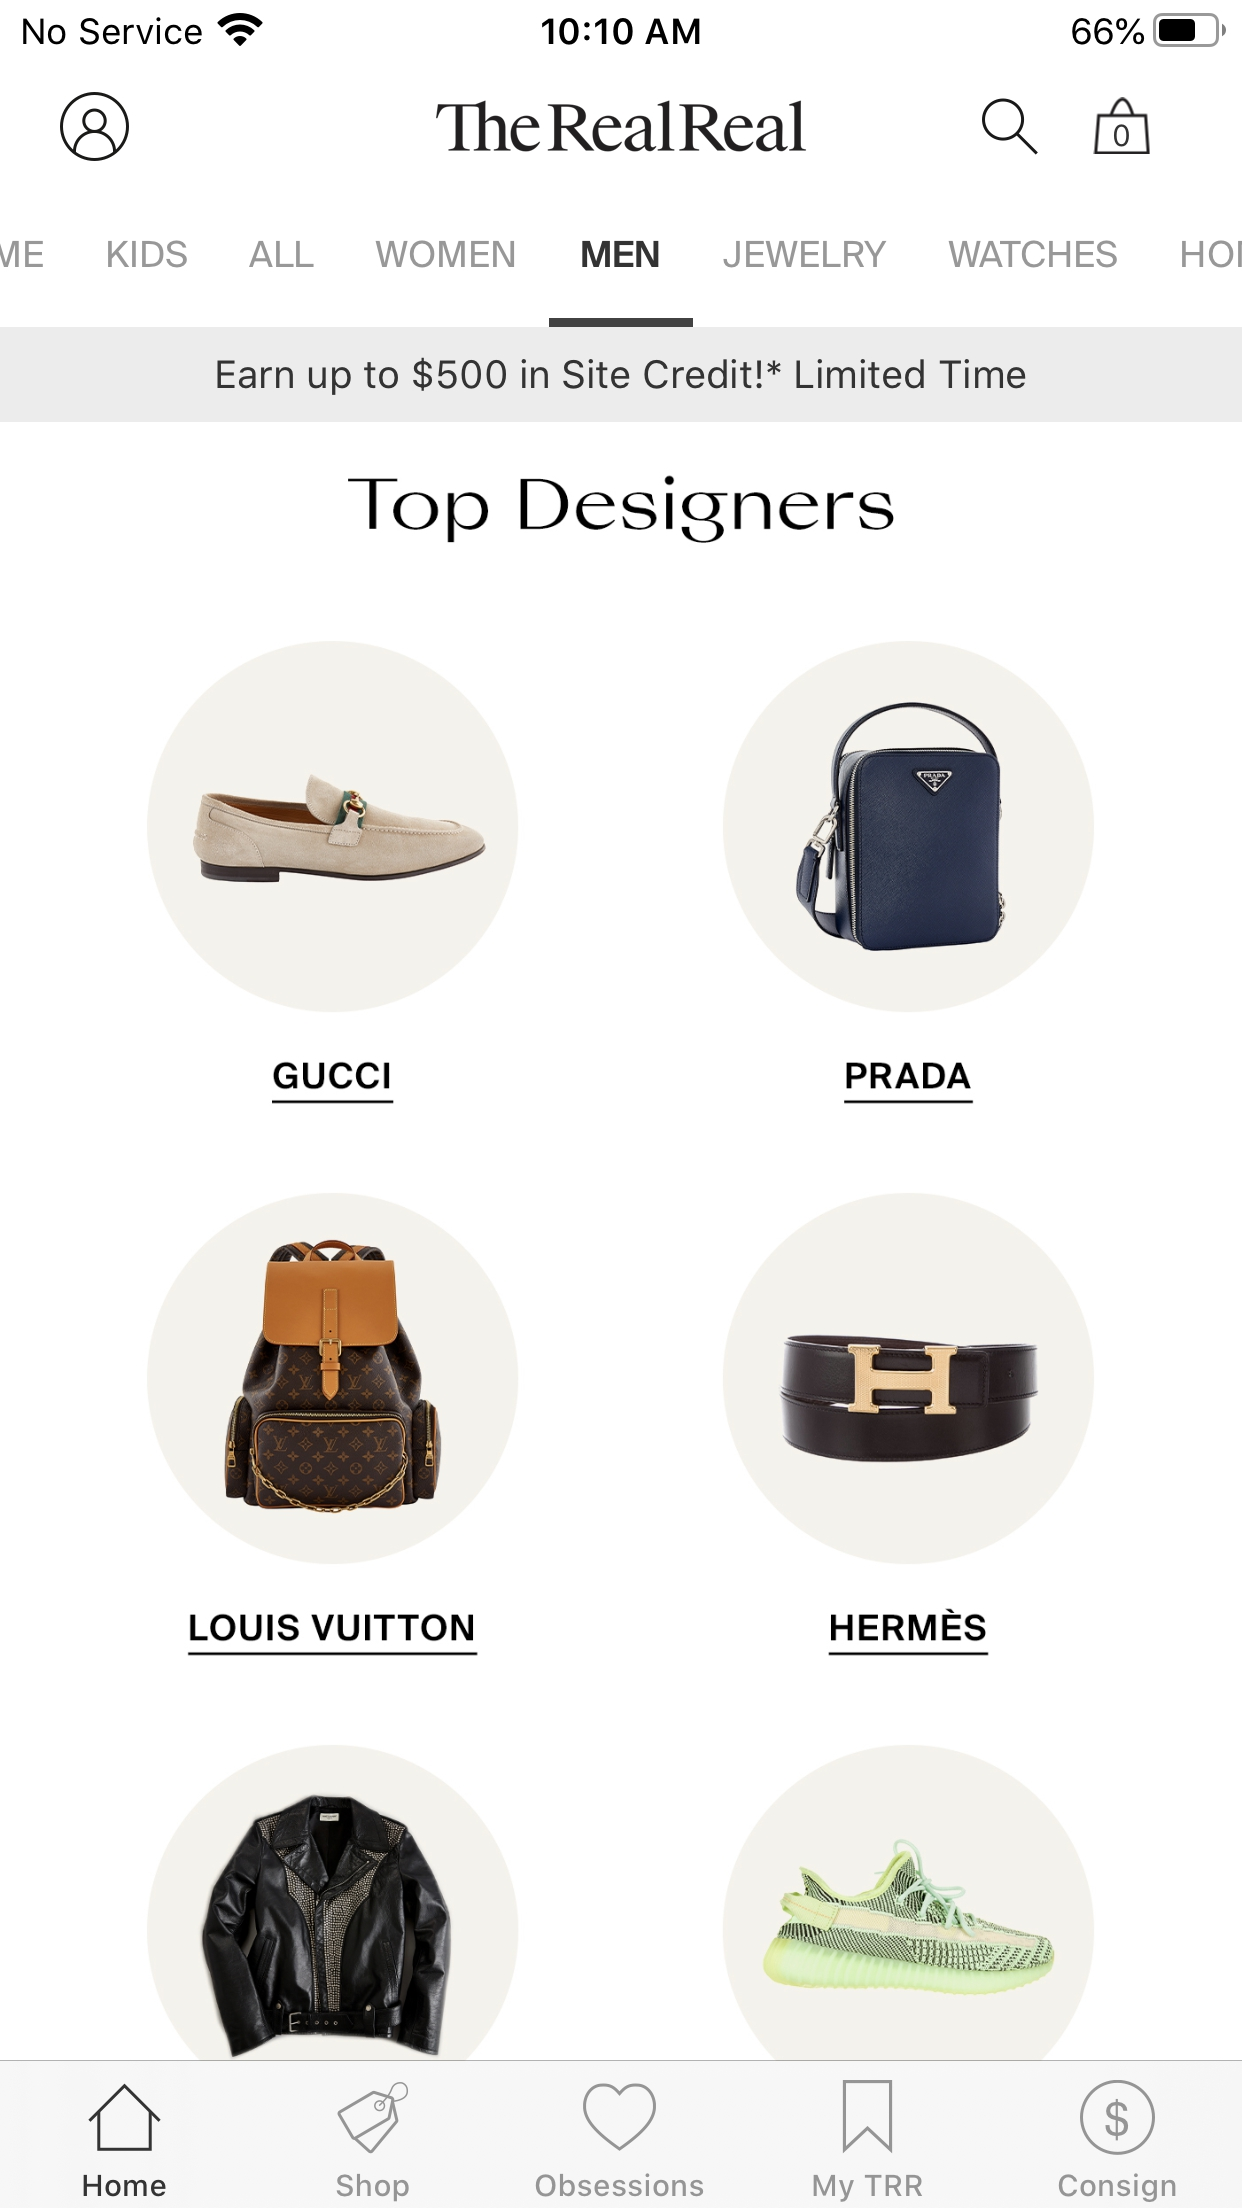Icon: (1080, 2081, 1156, 2153), (337, 2082, 408, 2153), (582, 2084, 657, 2150), (88, 2084, 161, 2150), (61, 93, 129, 161), (842, 2081, 893, 2153), (1093, 99, 1149, 155), (983, 99, 1037, 155)
Image: (200, 1794, 450, 2056), (224, 1240, 441, 1513), (796, 702, 1005, 951), (763, 1839, 1054, 1996), (779, 1335, 1037, 1463), (193, 773, 485, 884)
Text: (347, 475, 895, 543), (217, 356, 1027, 394), (437, 100, 805, 152), (190, 1614, 475, 1642), (831, 1607, 986, 1642), (948, 240, 1118, 268), (723, 240, 887, 268), (375, 240, 516, 268), (535, 2173, 704, 2196), (846, 1062, 971, 1089), (273, 1062, 390, 1090), (1059, 2172, 1175, 2200), (813, 2175, 922, 2202), (108, 240, 187, 268), (582, 240, 660, 267), (337, 2173, 409, 2202), (83, 2175, 165, 2197), (249, 240, 314, 267)
UpperTaskBar: (2, 2, 1242, 49)
